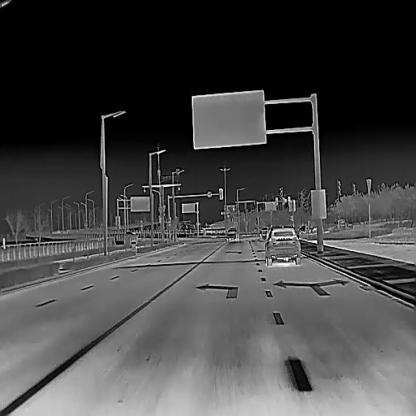car: (263, 226, 301, 266), (225, 226, 238, 240), (336, 217, 352, 227), (260, 226, 272, 238)
